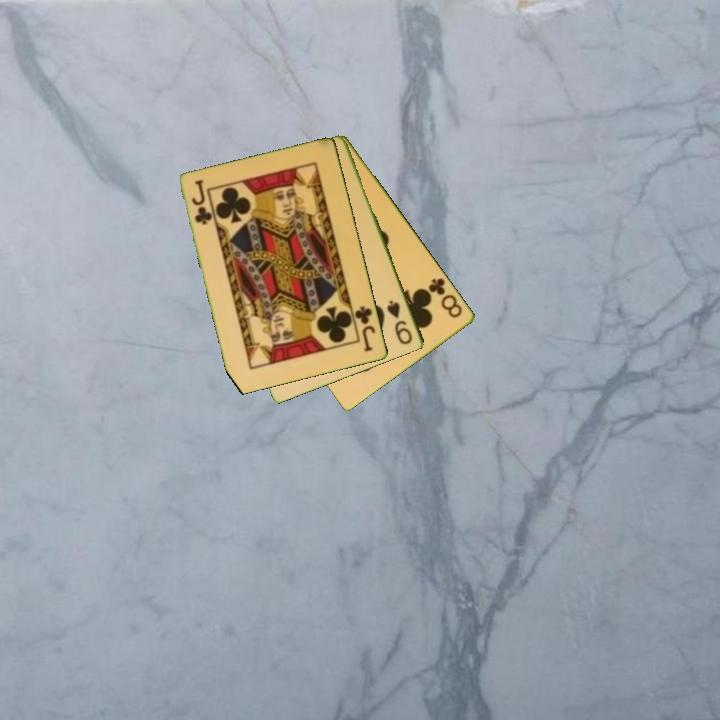8c: (425, 274, 466, 321)
9s: (384, 297, 416, 348)
Jc: (351, 303, 379, 355), (189, 176, 215, 228)
